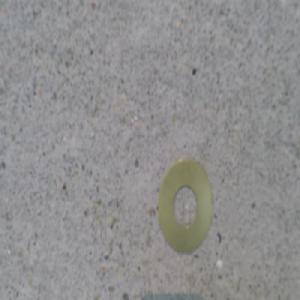Washer: (157, 151, 213, 250)
